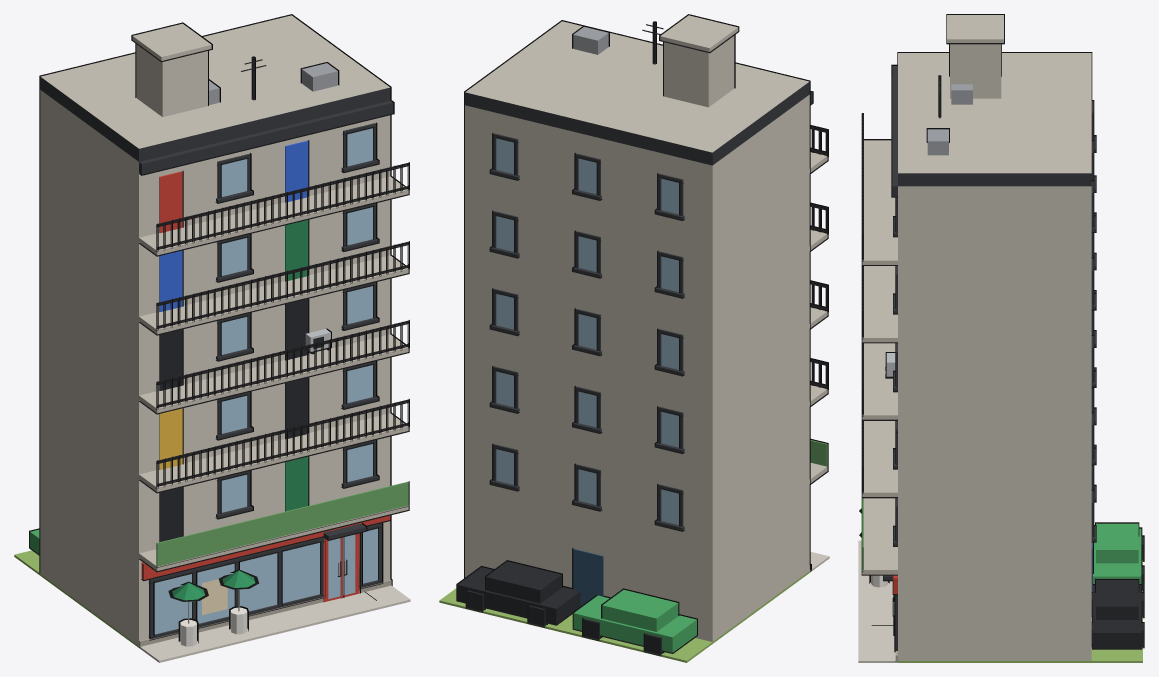
File: Blok_duz_6k_6.fbx
3 renders of one model, left to right at view 1: azimuth 30°, elevation 25°; view 2: azimuth 150°, elevation 25°; view 3: azimuth 270°, elevation 25°, orthographic.
Visible parts, largest first — view 1: Blok_duz_6k_6; view 2: Blok_duz_6k_6; view 3: Blok_duz_6k_6.
Boxes of the visible parts, <box> form: Blok_duz_6k_6: <box>14,14,410,662</box>; Blok_duz_6k_6: <box>439,14,829,662</box>; Blok_duz_6k_6: <box>858,14,1144,662</box>.
Bounding box in the file's own units: 10.09 × 21.43 × 10.07.
